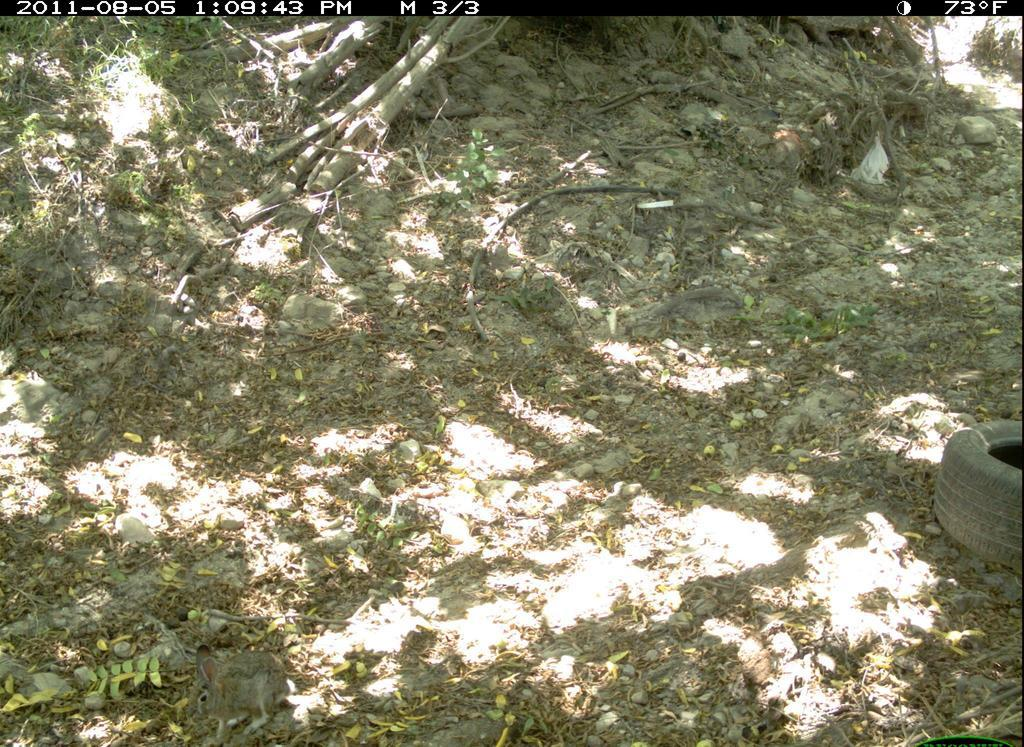rabbit: (171, 637, 303, 742)
